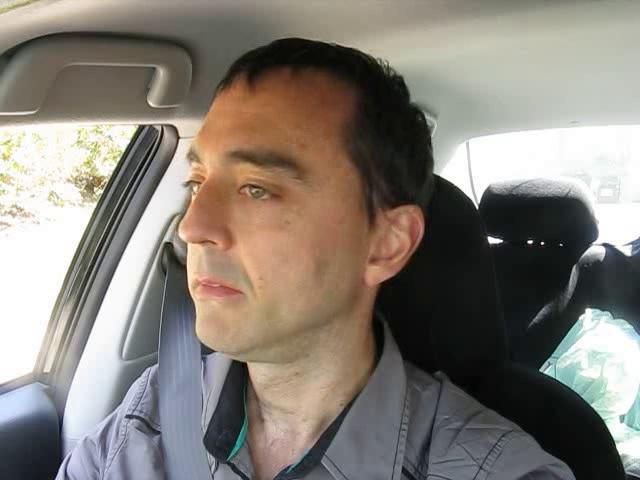no_yawn: (180, 267, 259, 313)
open_eyeL: (173, 172, 208, 202)
open_eyeR: (226, 171, 299, 213)
